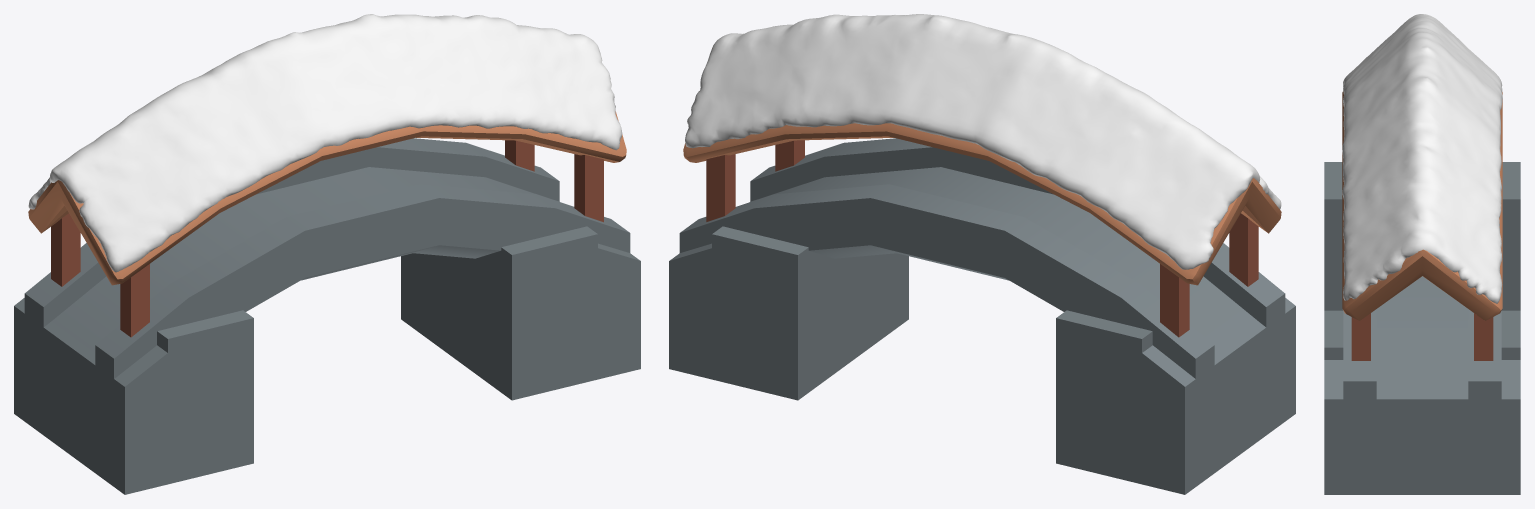
Rendered from bridge_roofedB.fbx.
3 renders of one model, left to right at view 1: azimuth 30°, elevation 25°; view 2: azimuth 150°, elevation 25°; view 3: azimuth 270°, elevation 25°, orthographic. The views are drawn at different scales.
Visible parts, largest first — view 1: SnowBall.001, bridge_roofed, bridge_roofed.002, bridge_roofed.001, bridge_roofed.007, bridge_roofed.005, bridge_roofed.003, bridge_roofed.004, bridge_roofed.006; view 2: SnowBall.001, bridge_roofed, bridge_roofed.001, bridge_roofed.002, bridge_roofed.007, bridge_roofed.006, bridge_roofed.004, bridge_roofed.003, bridge_roofed.005; view 3: SnowBall.001, bridge_roofed, bridge_roofed.002, bridge_roofed.001, bridge_roofed.007, bridge_roofed.005, bridge_roofed.006.
Part boxes in pixels (box(x1,y1,x2,y2)): SnowBall.001: box(28, 14, 622, 272); bridge_roofed: box(24, 138, 630, 413); bridge_roofed.002: box(401, 199, 640, 400); bridge_roofed.001: box(14, 298, 253, 494); bridge_roofed.007: box(28, 111, 626, 285); bridge_roofed.005: box(574, 154, 603, 222); bridge_roofed.003: box(51, 213, 80, 286); bridge_roofed.004: box(120, 264, 149, 337); bridge_roofed.006: box(505, 140, 534, 171); SnowBall.001: box(685, 14, 1281, 269); bridge_roofed: box(679, 138, 1285, 407); bridge_roofed.001: box(1056, 298, 1295, 494); bridge_roofed.002: box(669, 199, 908, 400); bridge_roofed.007: box(683, 123, 1281, 285); bridge_roofed.006: box(706, 154, 735, 221); bridge_roofed.004: box(1229, 213, 1258, 286); bridge_roofed.003: box(1160, 264, 1189, 337); bridge_roofed.005: box(775, 140, 804, 171); SnowBall.001: box(1342, 14, 1502, 303); bridge_roofed: box(1343, 276, 1501, 447); bridge_roofed.002: box(1324, 310, 1520, 494); bridge_roofed.001: box(1324, 162, 1520, 310); bridge_roofed.007: box(1342, 91, 1502, 320); bridge_roofed.005: box(1351, 313, 1370, 360); bridge_roofed.006: box(1474, 313, 1493, 360).
Bounding box in the file's own units: 210 × 135 × 74.38.
